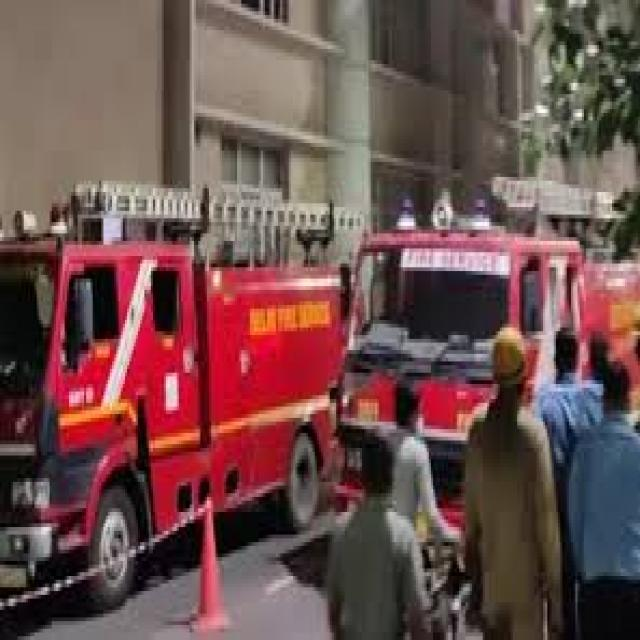Fire_brigade: (0, 154, 351, 568), (332, 203, 640, 572)
